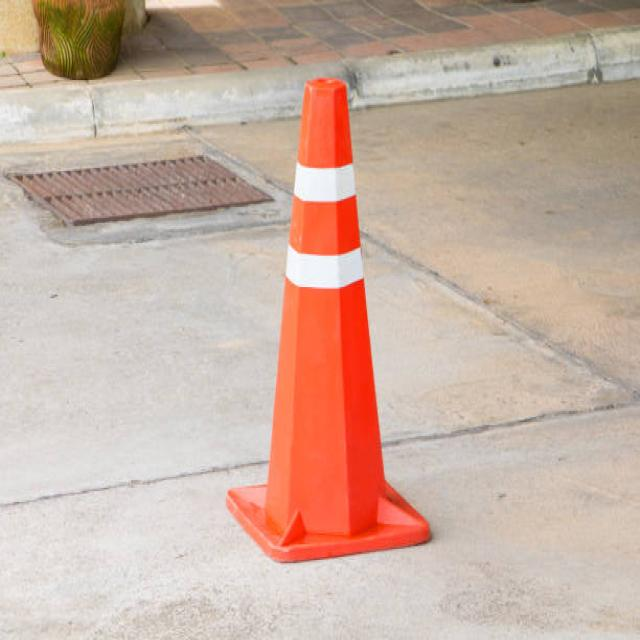Traffic Cone: (215, 45, 443, 582)
